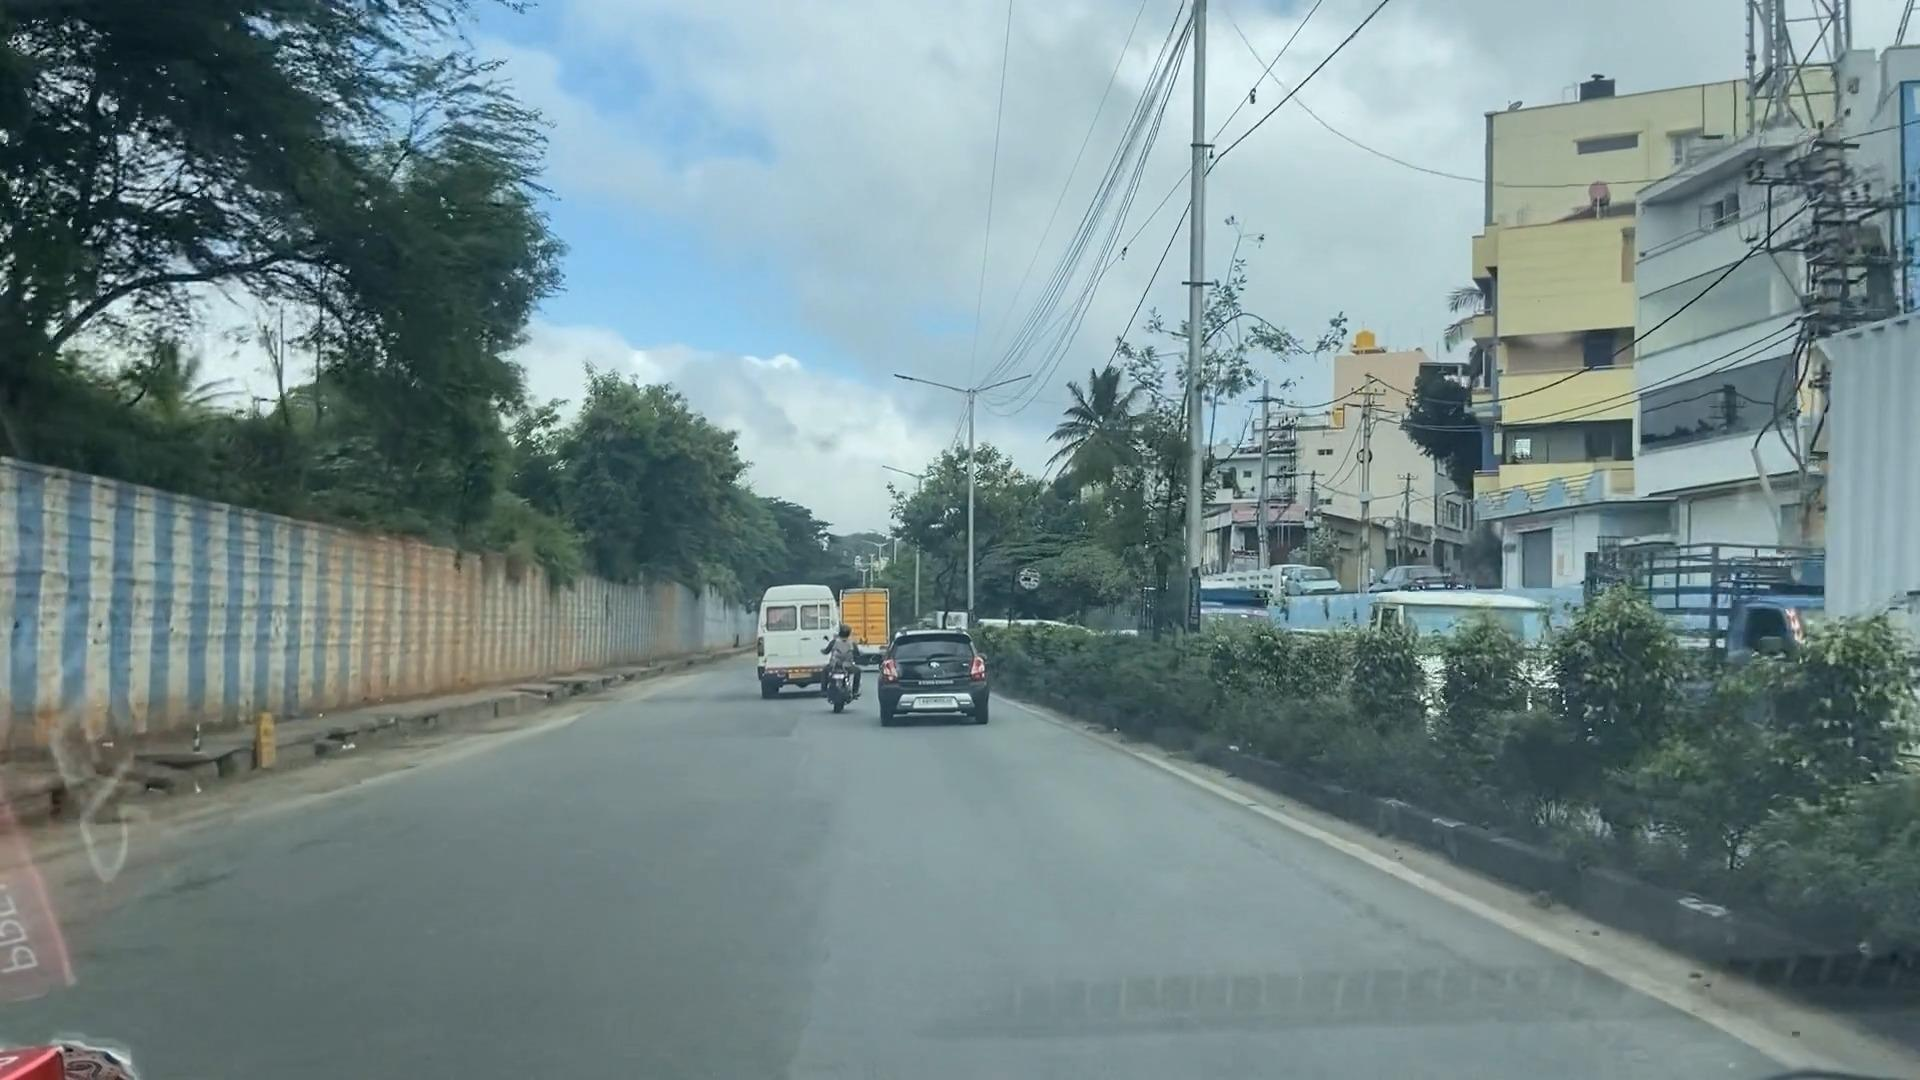LMV: (880, 630, 988, 725), (824, 624, 862, 717)
